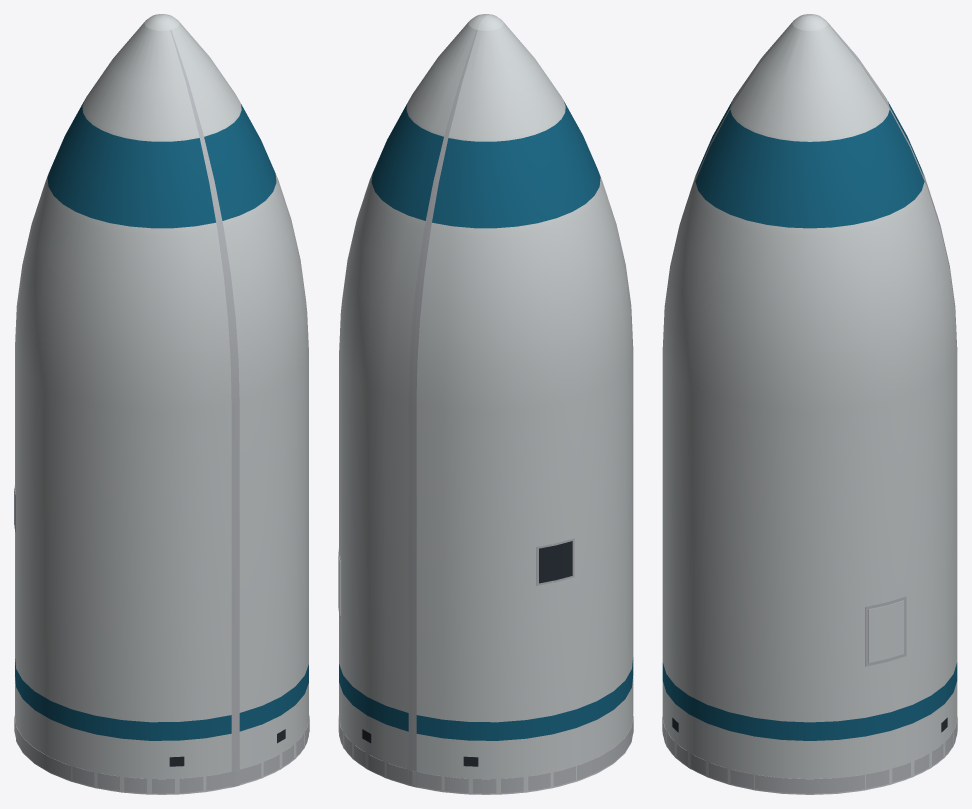
Rendered from fairing_large.glb.
3 views of the same model, side by side, from view 1: azimuth 30°, elevation 25°; view 2: azimuth 150°, elevation 25°; view 3: azimuth 270°, elevation 25° (orthographic).
Parts seen in each view (by area): view 1: fairing_large_half_b_mesh, fairing_large_half_a_mesh; view 2: fairing_large_half_b_mesh, fairing_large_half_a_mesh; view 3: fairing_large_half_a_mesh, fairing_large_half_b_mesh.
Part boxes in pixels (x1,y1,x2,y2): fairing_large_half_b_mesh: (14,14,235,794); fairing_large_half_a_mesh: (157,14,309,786); fairing_large_half_b_mesh: (412,14,633,794); fairing_large_half_a_mesh: (338,14,488,786); fairing_large_half_a_mesh: (662,16,957,794); fairing_large_half_b_mesh: (662,14,957,716).
Size of the model in its own units: 5.41 by 14.5 by 5.41.
